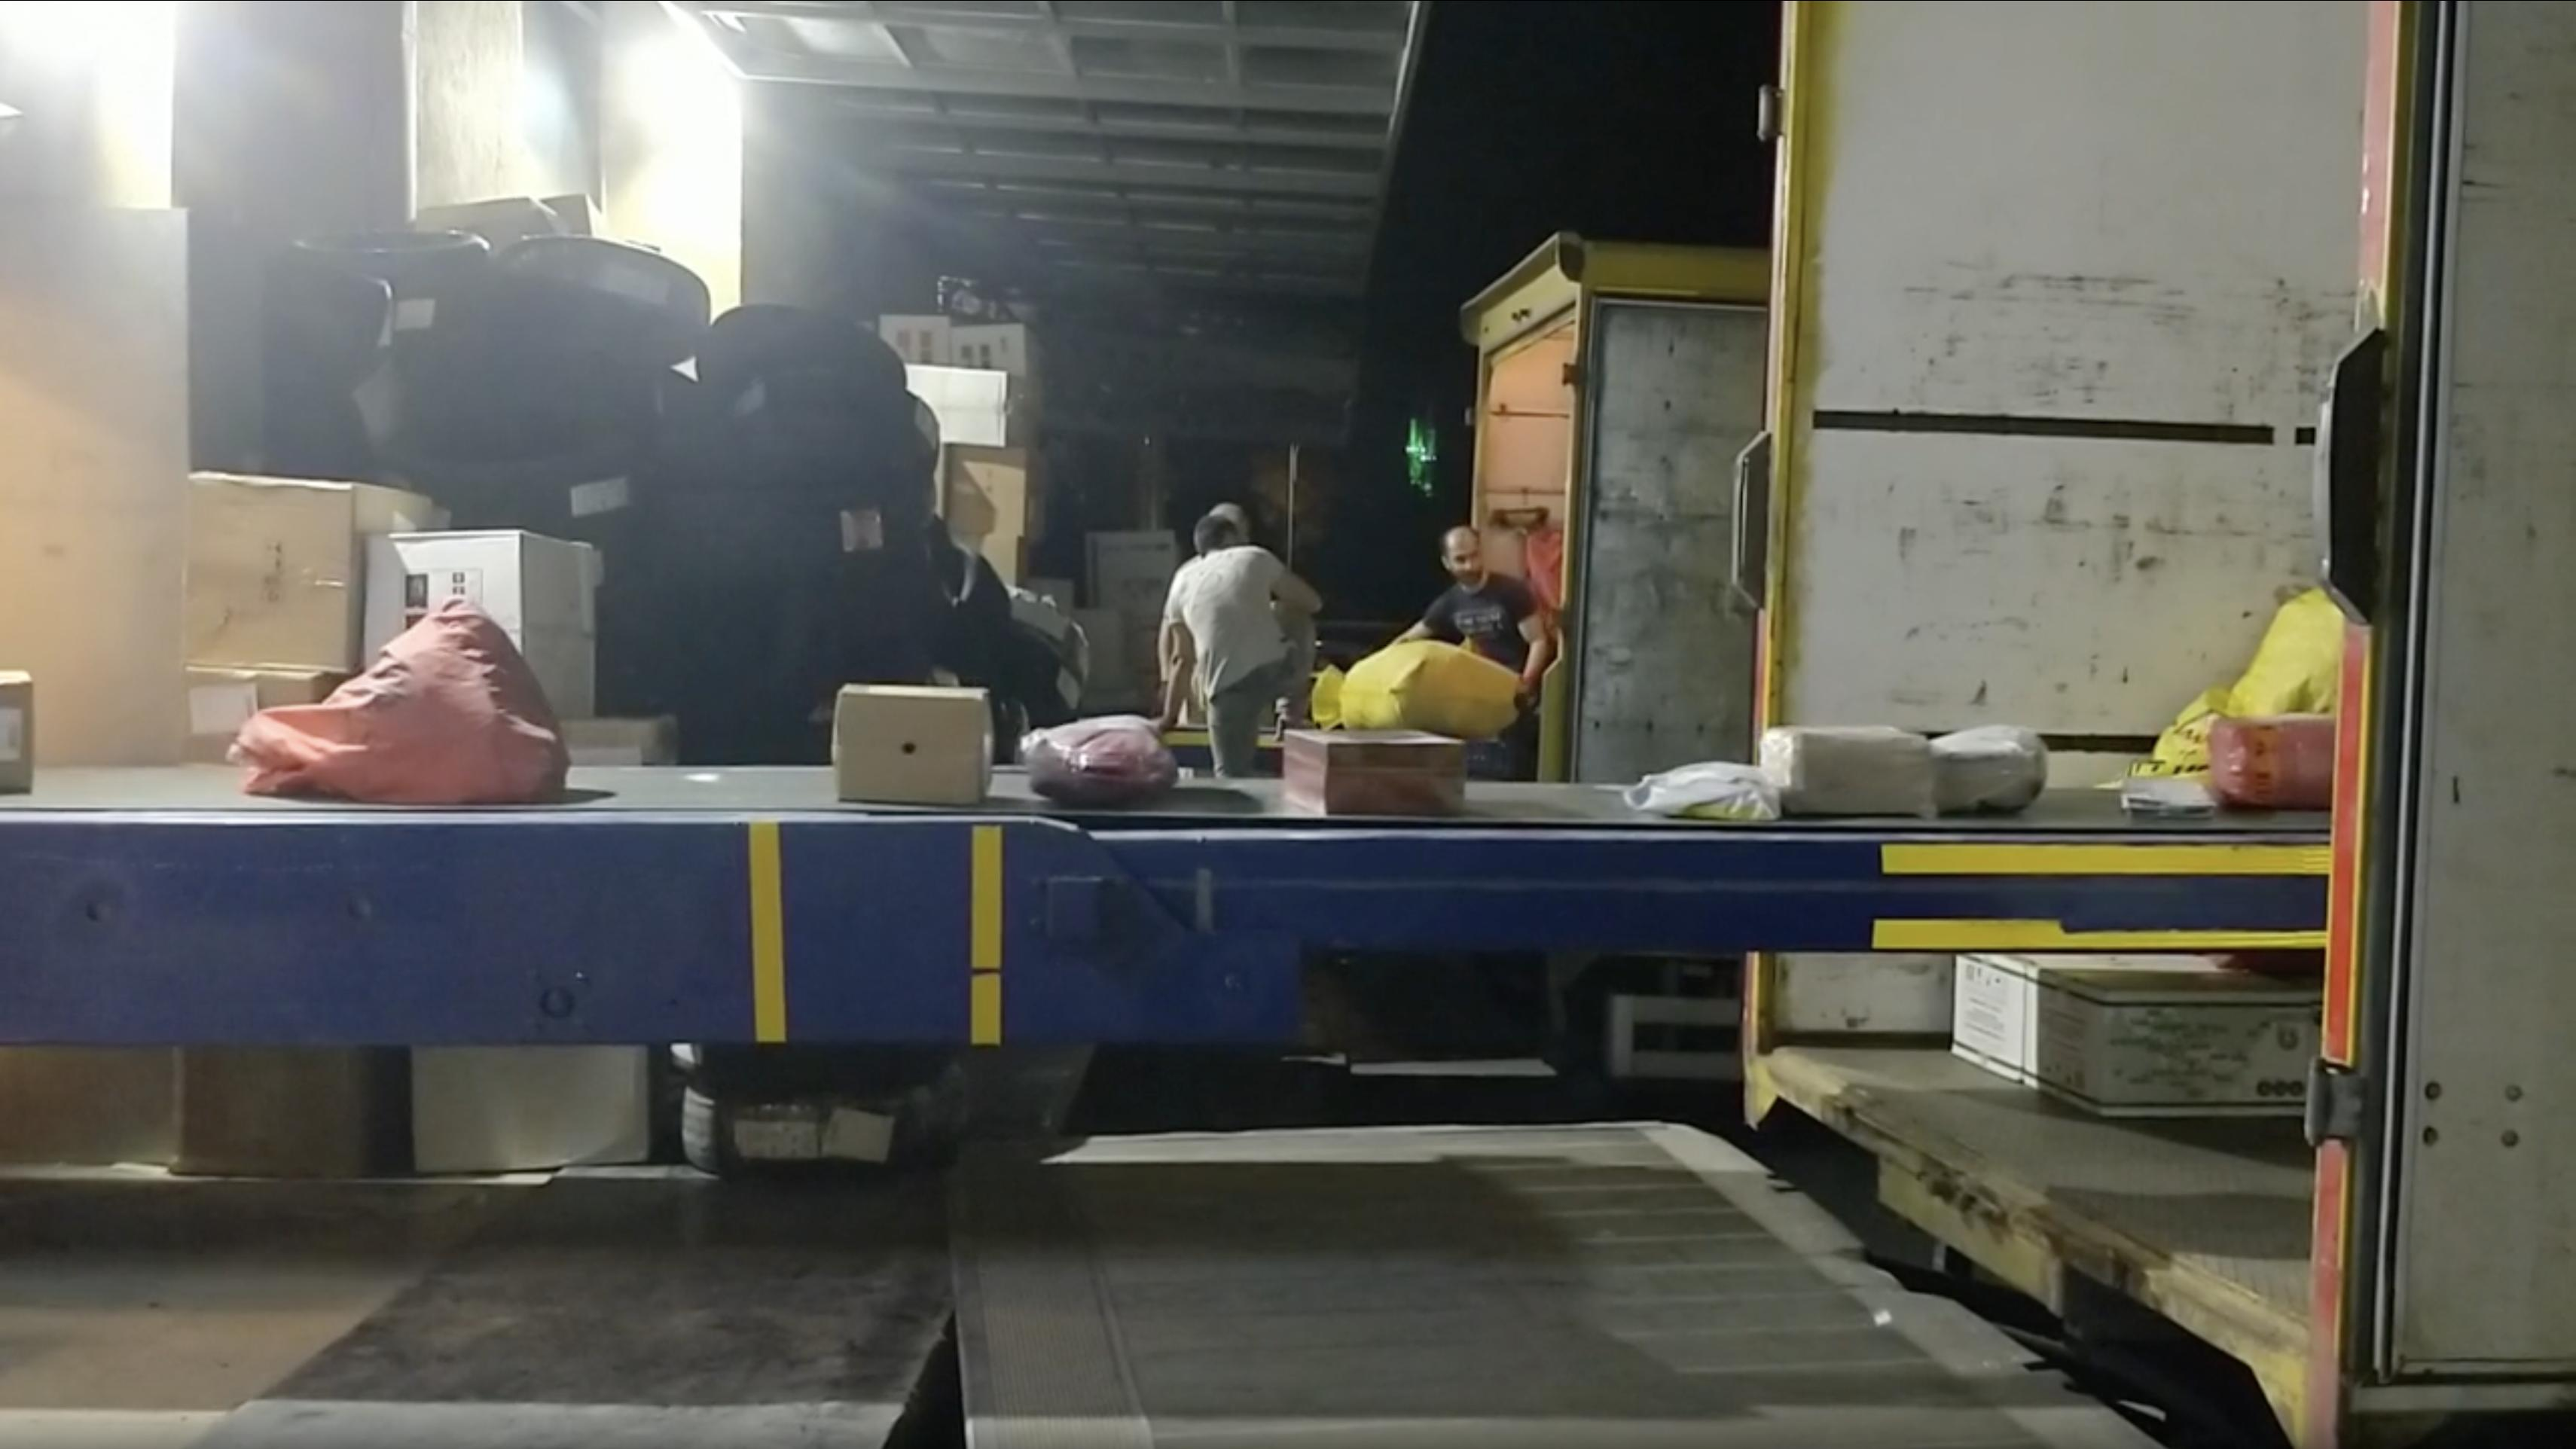Box: (828, 669, 1001, 812), (1279, 717, 1477, 833), (1764, 720, 1932, 809), (1937, 722, 2047, 801)
bag: (228, 598, 561, 821), (1024, 711, 1184, 814), (1633, 745, 1790, 830)
